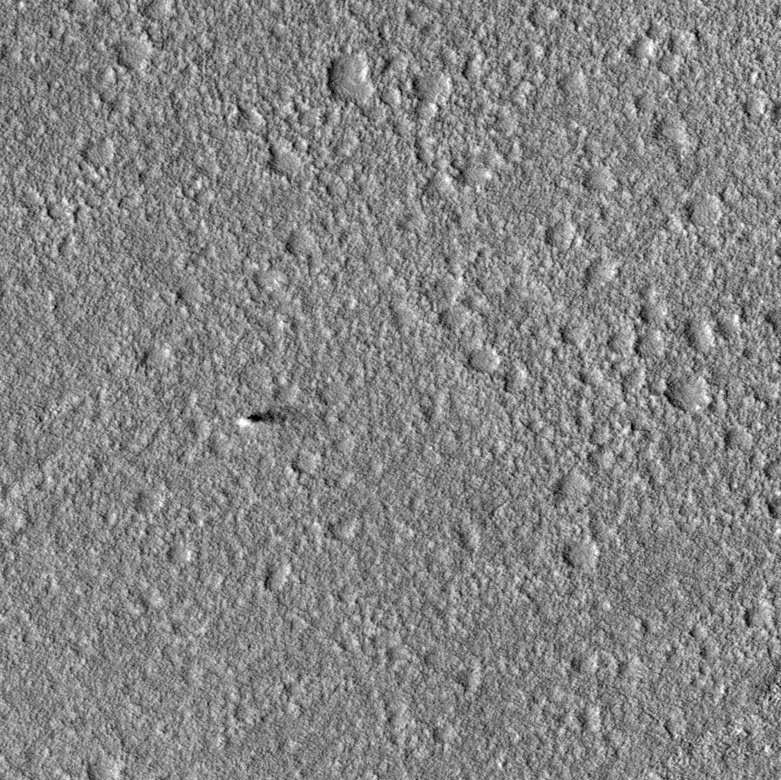dust_devil: (234, 404, 290, 430)
